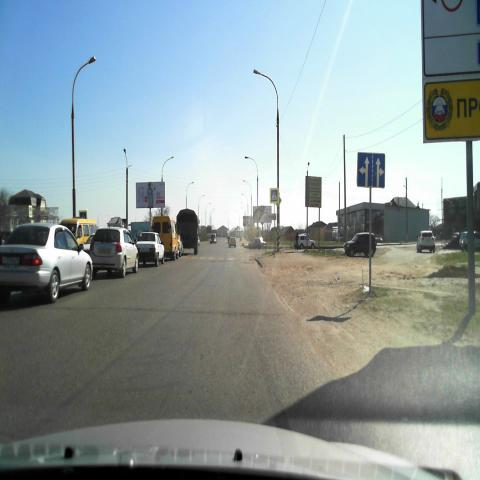5_15_2_2: (357, 151, 385, 190)
